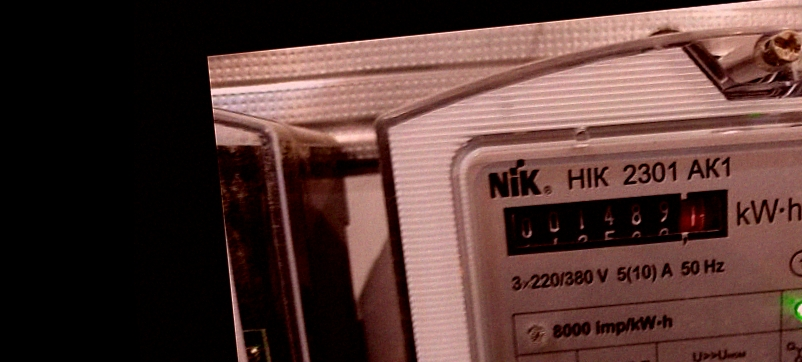0: (518, 213, 536, 240), (545, 206, 563, 233)
1: (574, 203, 591, 233), (686, 198, 701, 229)
4: (601, 201, 619, 228)
8: (627, 198, 646, 227)
9: (656, 197, 673, 224)
screen: (488, 172, 750, 273)
